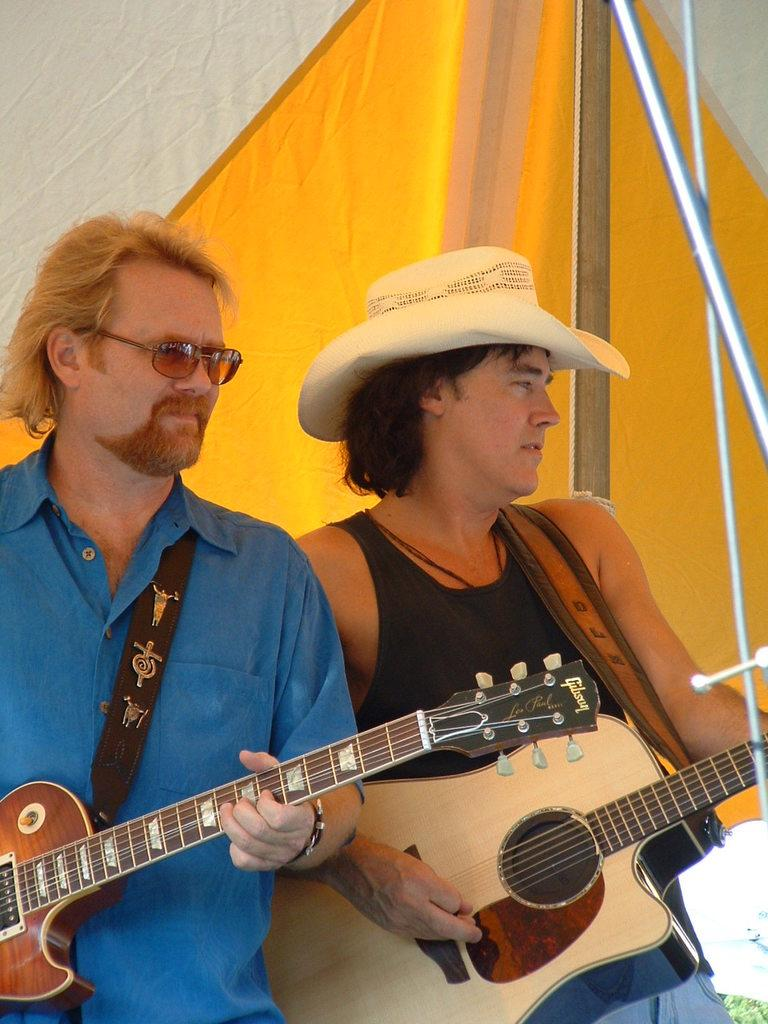Hat: (296, 244, 634, 440)
